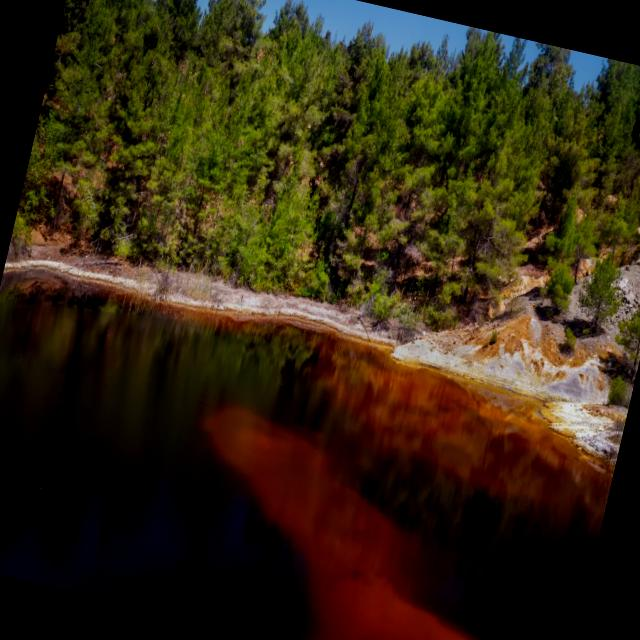yellow_boy: (204, 407, 470, 640)
